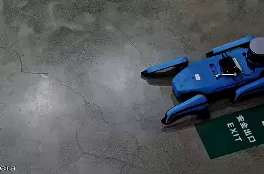robot dog: (136, 31, 264, 128)
